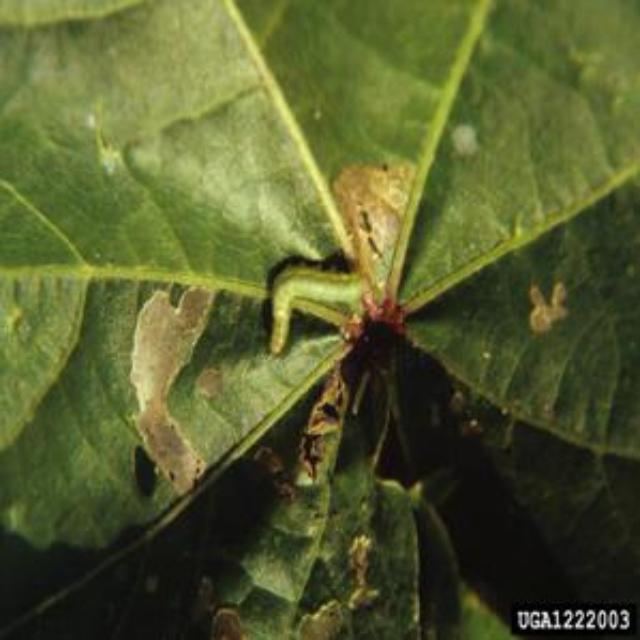Beet armyworm: (248, 222, 404, 381)
